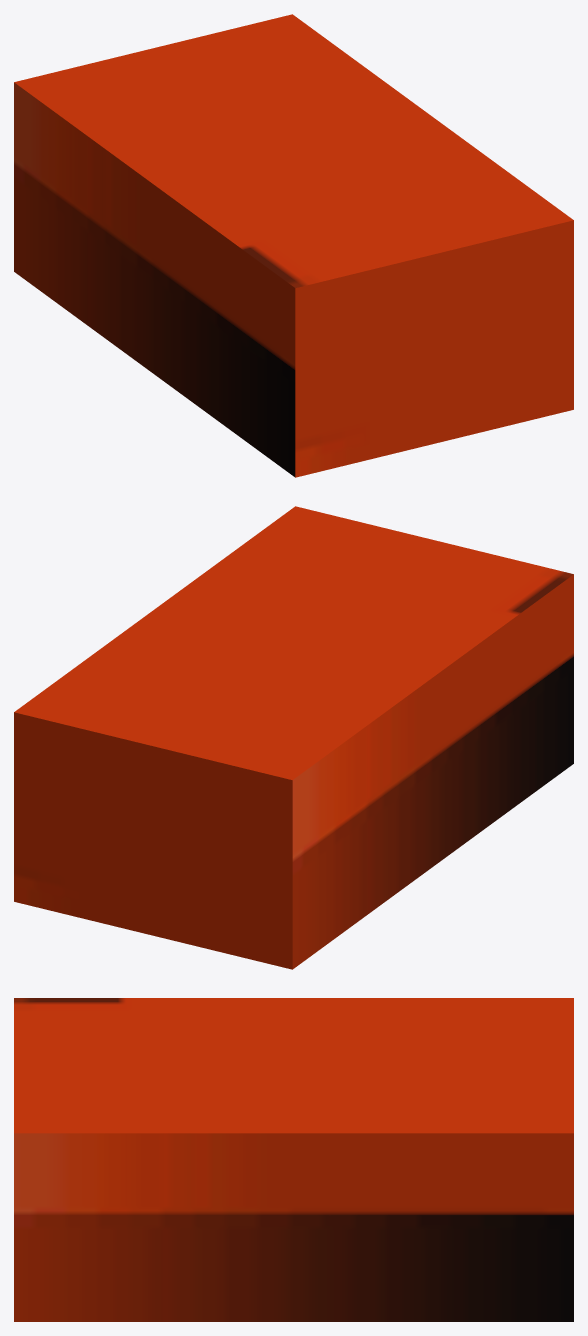
3 views of the same model, one above another, from view 1: azimuth 30°, elevation 25°; view 2: azimuth 150°, elevation 25°; view 3: azimuth 270°, elevation 25° (orthographic).
Parts seen in each view (by area): view 1: Joint_0_Object_0; view 2: Joint_0_Object_0; view 3: Joint_0_Object_0.
Boxes of the visible parts, left/top/right/bottom form: Joint_0_Object_0: left=14, top=14, right=573, bottom=477; Joint_0_Object_0: left=14, top=506, right=573, bottom=969; Joint_0_Object_0: left=14, top=998, right=573, bottom=1321.
Bounding box in the file's own units: 265 × 172 × 463.
